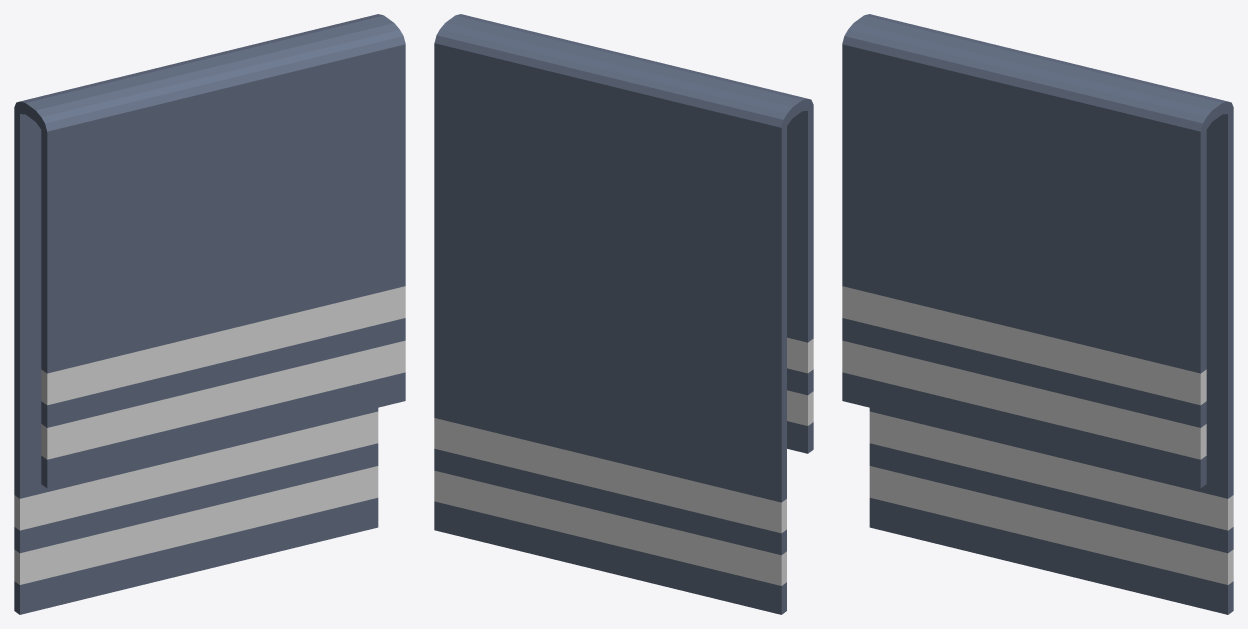
Rendered from Towel_05.fbx.
The picture shows the model from 3 angles, left to right: view 1: azimuth 30°, elevation 25°; view 2: azimuth 150°, elevation 25°; view 3: azimuth 330°, elevation 25°; orthographic projection. The views are drawn at different scales.
Visible parts, largest first — view 1: Towel_05; view 2: Towel_05; view 3: Towel_05.
Part boxes in pixels (left/top/right/bottom): Towel_05: left=14, top=14, right=405, bottom=614; Towel_05: left=434, top=14, right=813, bottom=614; Towel_05: left=842, top=14, right=1233, bottom=614.
Bounding box in the file's own units: 35.79 × 49.22 × 5.7.
